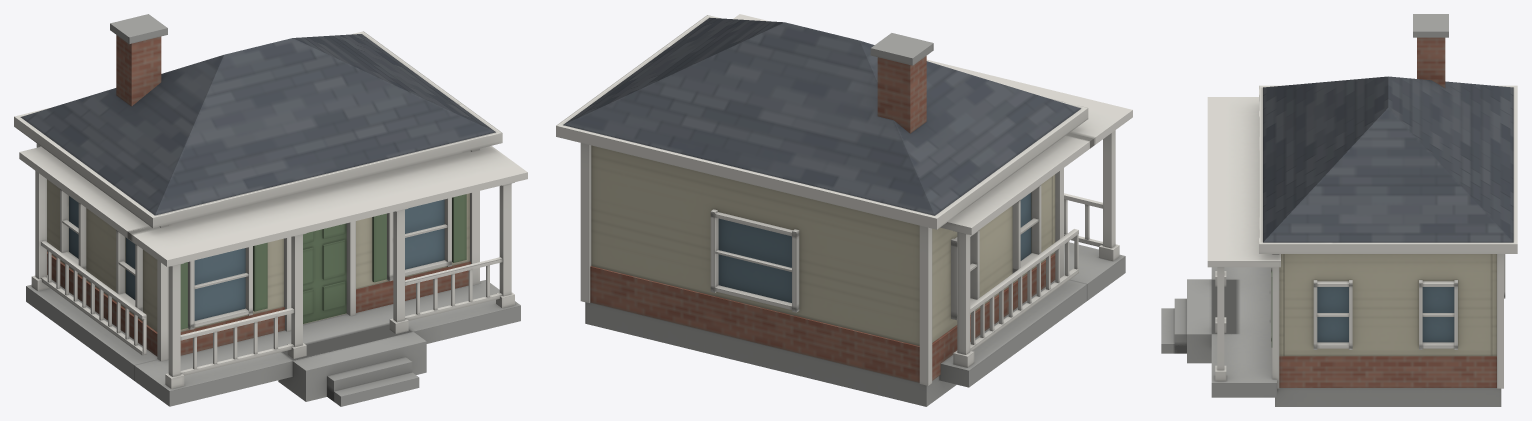
The model's file is House_06_Wraparound_Hip.fbx.
3 renders of one model, left to right at view 1: azimuth 30°, elevation 25°; view 2: azimuth 150°, elevation 25°; view 3: azimuth 270°, elevation 25°, orthographic. The views are drawn at different scales.
Parts seen in each view (by area): view 1: House_06_Wraparound_Hip; view 2: House_06_Wraparound_Hip; view 3: House_06_Wraparound_Hip.
Boxes of the visible parts, x1,y1,x2,y2 form: House_06_Wraparound_Hip: [14, 14, 527, 406]; House_06_Wraparound_Hip: [556, 14, 1132, 406]; House_06_Wraparound_Hip: [1161, 14, 1517, 406].
Size of the model in its own units: 7.29 by 5.55 by 6.66.
1 material, 1 textured.
